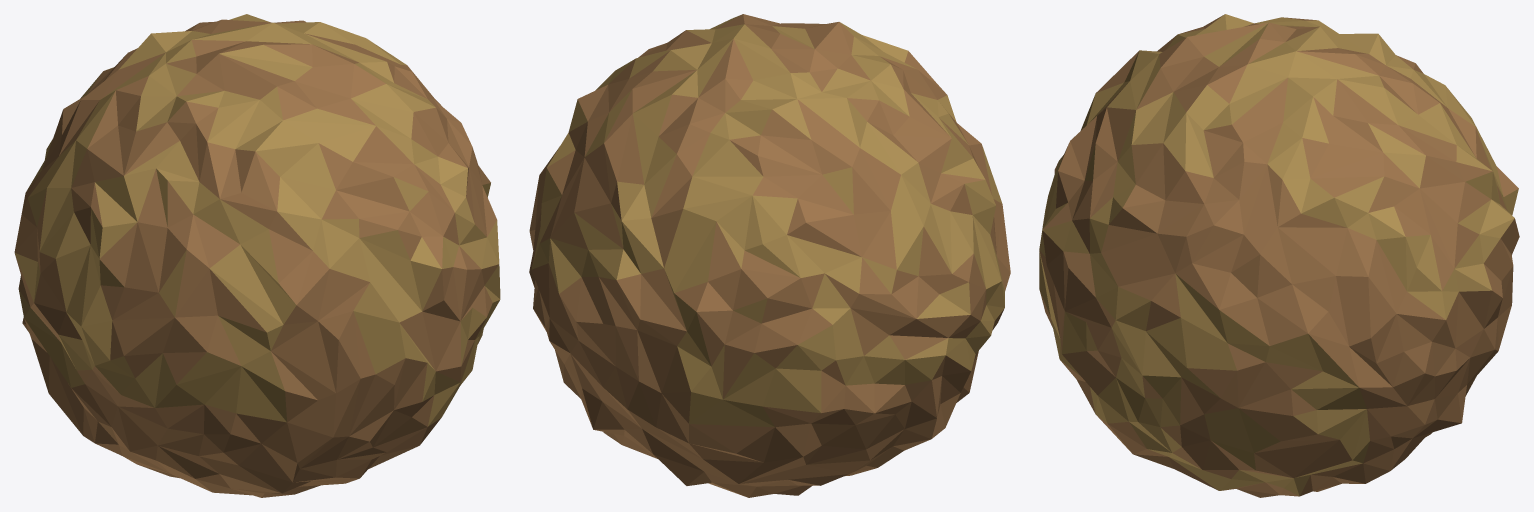
File: venus.glb
3 views of the same model, side by side, from view 1: azimuth 30°, elevation 25°; view 2: azimuth 150°, elevation 25°; view 3: azimuth 270°, elevation 25° (orthographic).
Bounding box in the file's own units: 35.29 × 35.06 × 35.03.
Materials: 1 (1 with a texture image).
